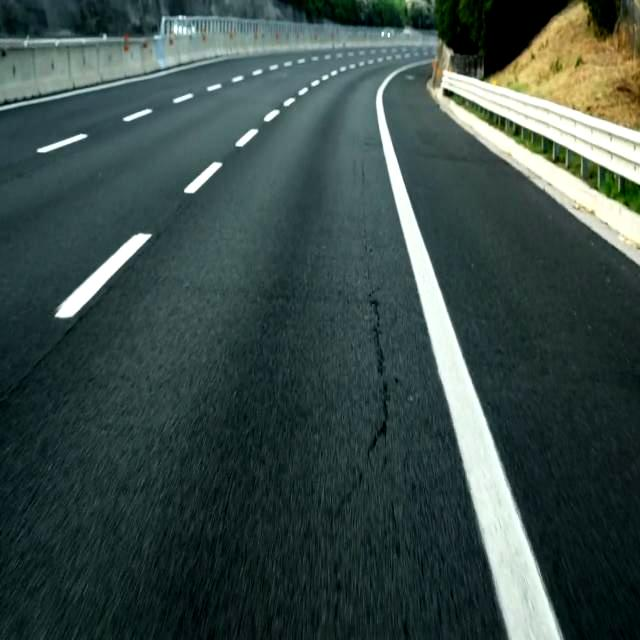lane: (378, 64, 561, 640), (56, 234, 151, 318), (184, 162, 222, 194), (36, 134, 88, 154), (235, 129, 259, 148)
road: (0, 51, 506, 639), (384, 67, 639, 639)
